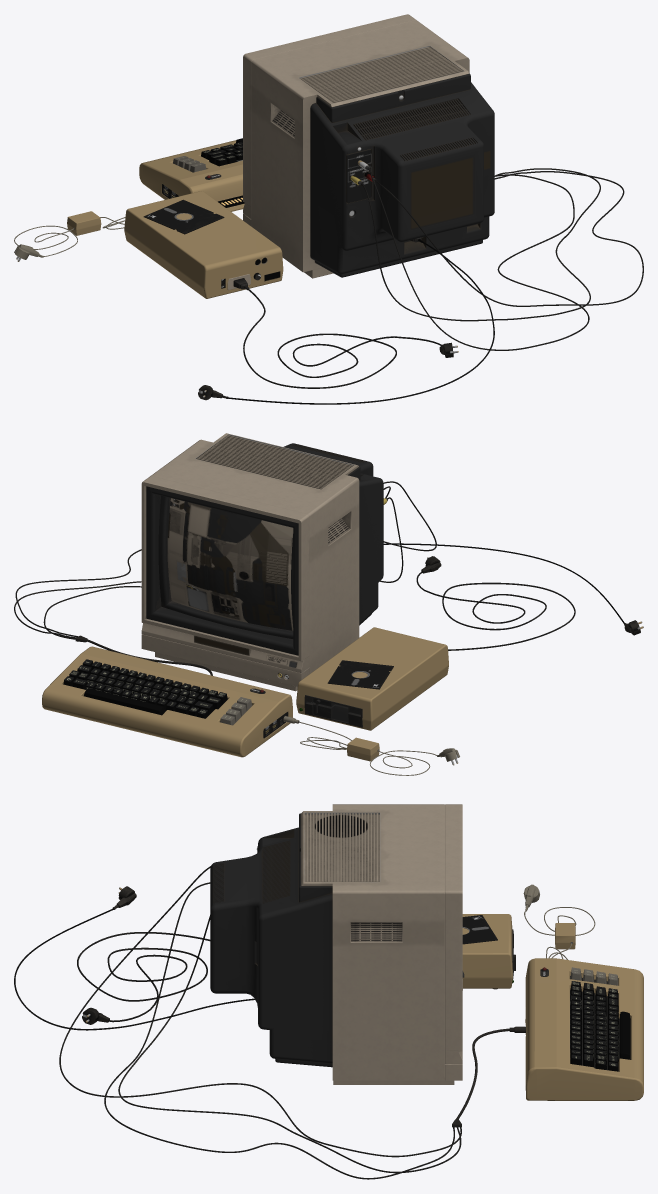
File: CommodoreWithFloppyAndMonitor.fbx
The picture shows the model from 3 angles, top to bottom: view 1: azimuth 30°, elevation 25°; view 2: azimuth 150°, elevation 25°; view 3: azimuth 270°, elevation 25°; orthographic projection. The views are drawn at different scales.
Parts seen in each view (by area): view 1: Monitor, 1541DISK, RESTCABLES, PCCASE; view 2: Monitor, Display, PCCASE, 1541DISK, RESTCABLES, SPACE; view 3: Monitor, PCCASE, RESTCABLES, 1541DISK, SPACE.
Boxes of the visible parts, left/top/right/bottom form: Monitor: left=243, top=14, right=494, bottom=278; 1541DISK: left=124, top=191, right=283, bottom=298; RESTCABLES: left=14, top=160, right=643, bottom=404; PCCASE: left=139, top=140, right=244, bottom=211; Monitor: left=141, top=433, right=383, bottom=691; Display: left=167, top=498, right=293, bottom=630; PCCASE: left=42, top=646, right=292, bottom=757; 1541DISK: left=296, top=627, right=448, bottom=730; RESTCABLES: left=14, top=481, right=643, bottom=775; SPACE: left=84, top=688, right=164, bottom=715; Monitor: left=210, top=804, right=464, bottom=1084; PCCASE: left=525, top=958, right=643, bottom=1100; RESTCABLES: left=14, top=866, right=595, bottom=1179; 1541DISK: left=462, top=914, right=513, bottom=989; SPACE: left=619, top=1011, right=630, bottom=1059.
Size of the model in its own units: 182 by 60.57 by 171.
